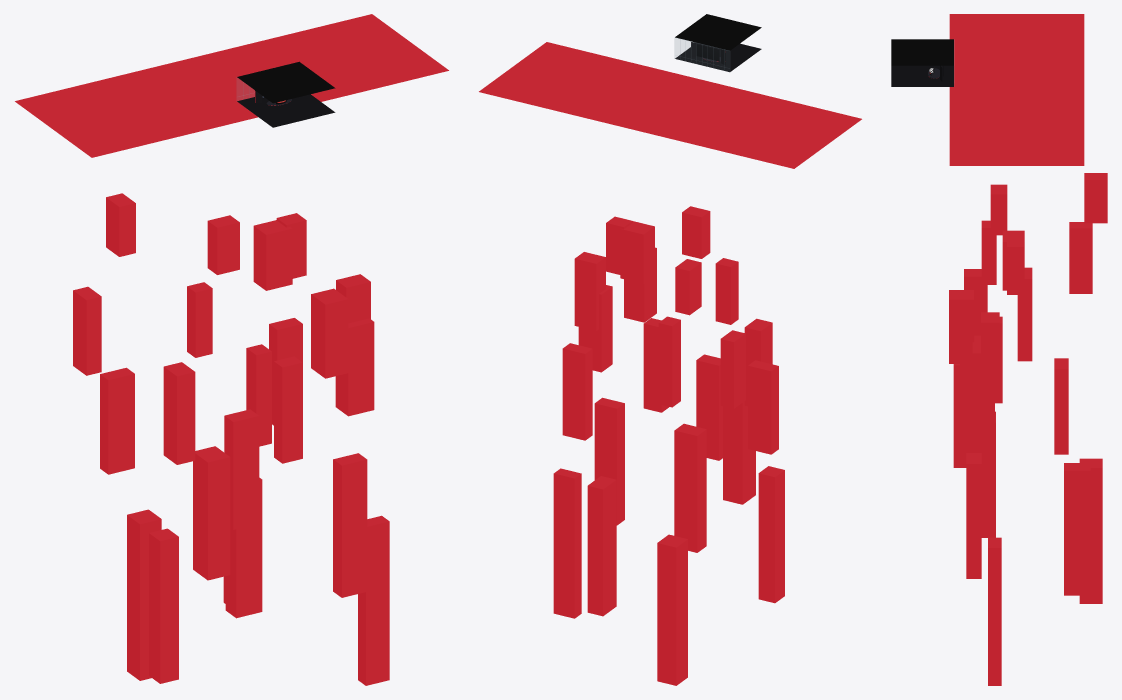
Rendered from newsroom-breaking.glb.
3 views of the same model, side by side, from view 1: azimuth 30°, elevation 25°; view 2: azimuth 150°, elevation 25°; view 3: azimuth 270°, elevation 25° (orthographic). The views are drawn at different scales.
Visible parts, largest first — view 1: news_skyline, news_ceiling, news_floor; view 2: news_skyline, news_ceiling, news_glass, news_floor; view 3: news_skyline, news_ceiling, news_floor.
Part boxes in pixels (x1,y1,x2,y2): news_skyline: (15,14,448,685); news_ceiling: (237,61,335,103); news_floor: (237,94,335,127); news_skyline: (479,42,861,685); news_ceiling: (675,14,761,50); news_glass: (674,37,729,71); news_floor: (675,43,761,72); news_skyline: (949,14,1107,685); news_ceiling: (891,39,953,65); news_floor: (891,65,953,86).
Size of the model in its own units: 80 by 141 by 48.19.
